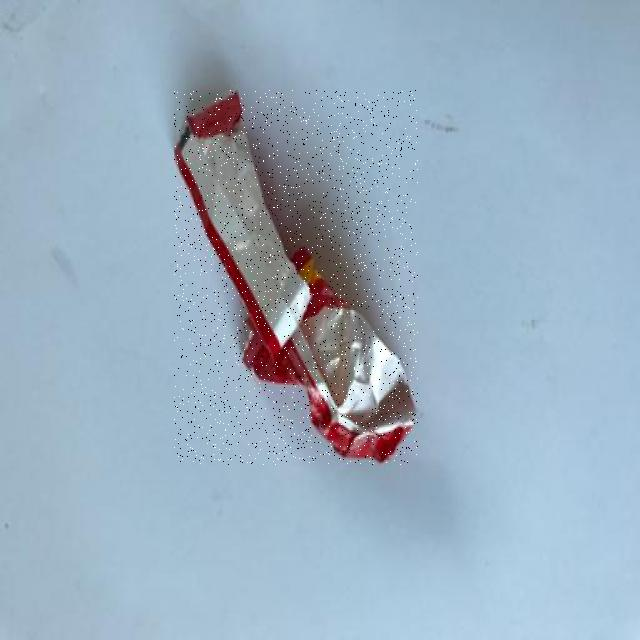wrapper: (175, 90, 418, 465)
